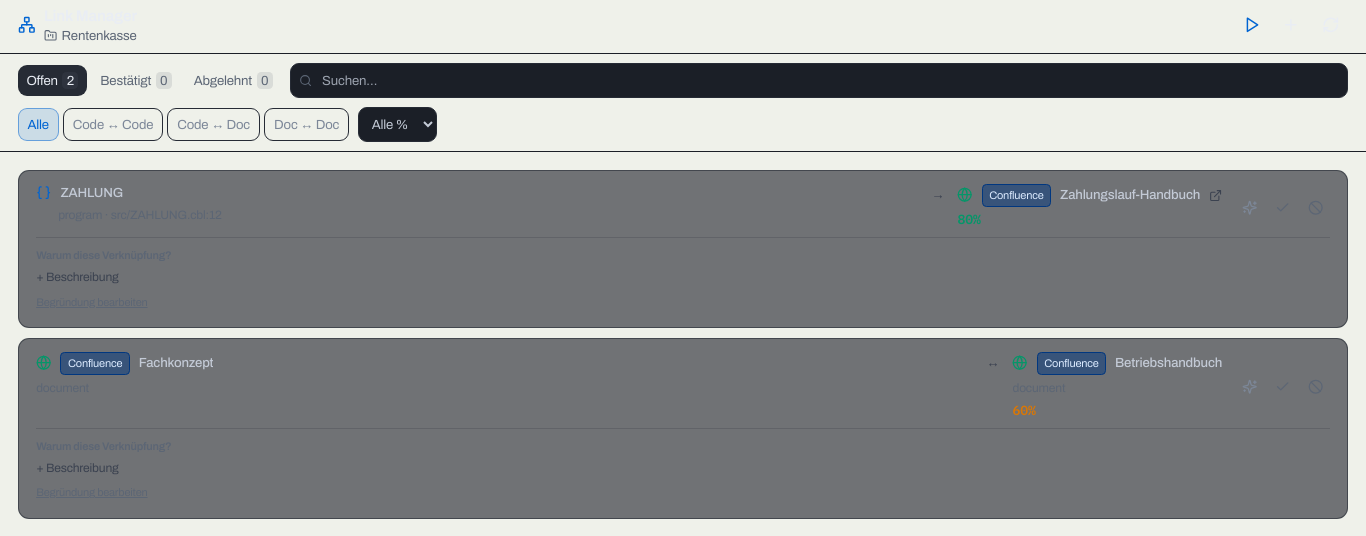
LinkManagerView › Filterleiste › filtert nach Verknüpfungsart
Expected: the text "ZAHLUNG" is shown, [60,184,123,201]
Click the button "Doc ↔ Doc" at coordinates (307, 125), box [264,108,349,141]
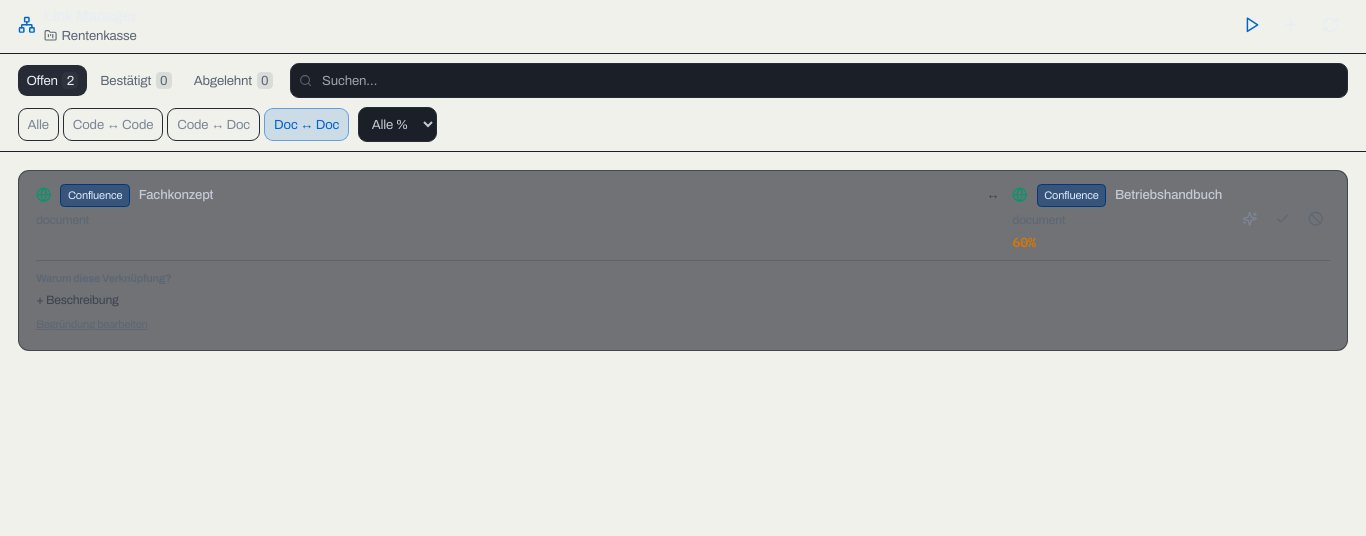
Expected: the text "Fachkonzept" is shown, [139,186,214,204]
Now the text "ZAHLUNG" is gone
Click the button "Code ↔ Doc" at coordinates (214, 125), box [167,108,260,141]
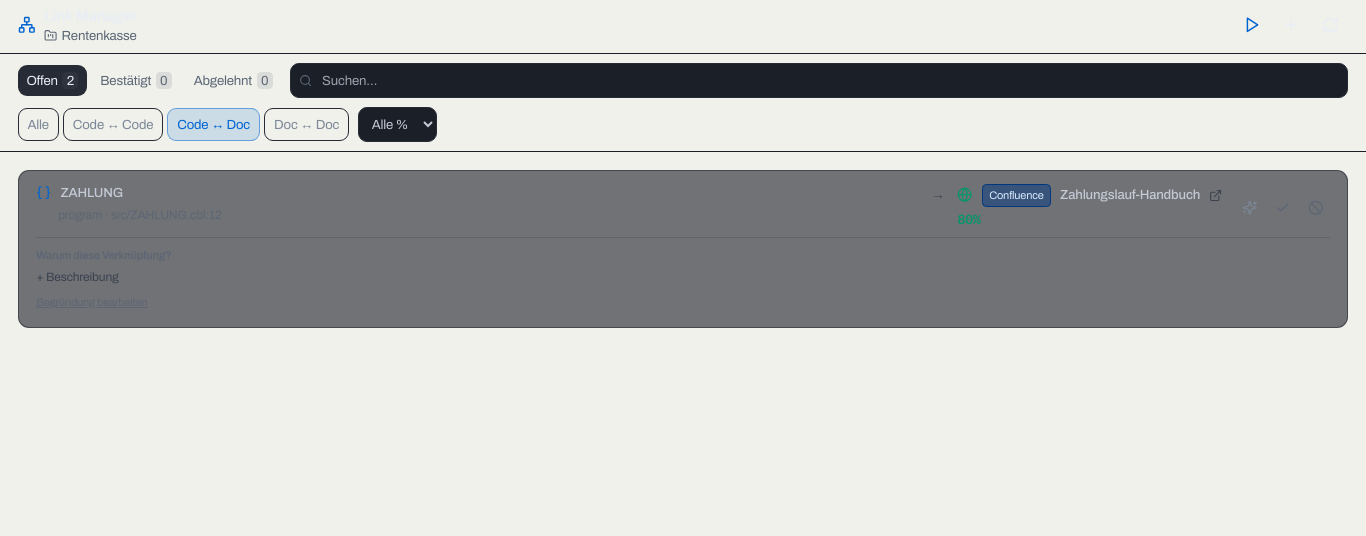
Now the text "Fachkonzept" is gone
Now the text "ZAHLUNG" is shown, box [60,184,123,201]
Click the button "Alle" at coordinates (38, 125), box [18,108,59,141]
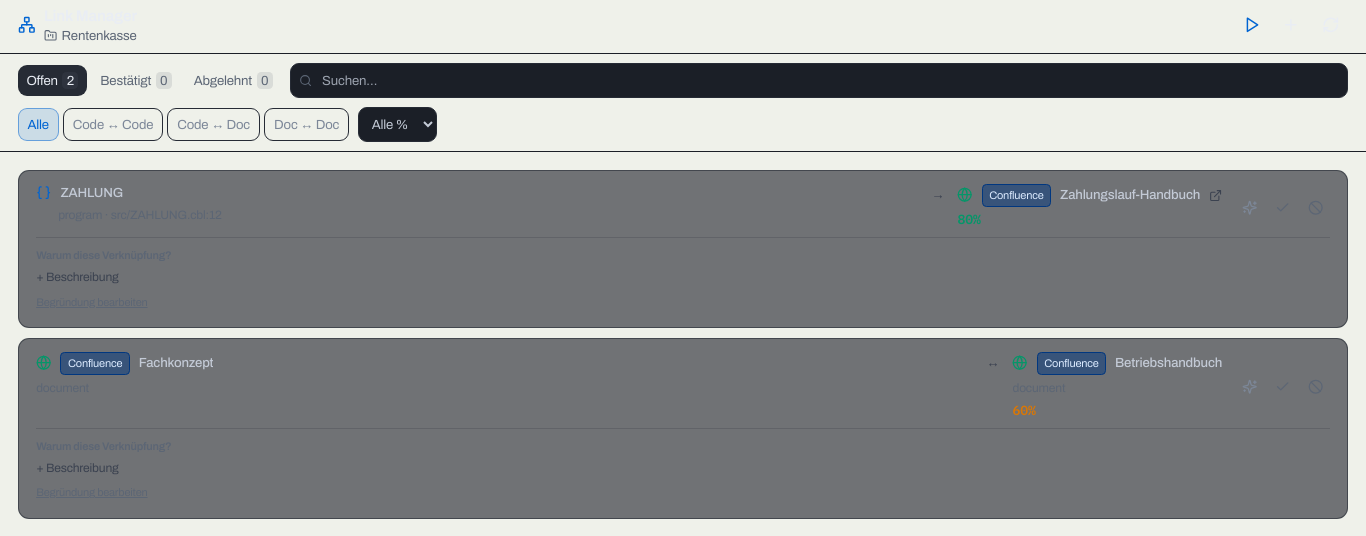
Now the text "ZAHLUNG" is shown, box [60,184,123,201]
Now the text "Fachkonzept" is shown, box [139,354,214,372]
